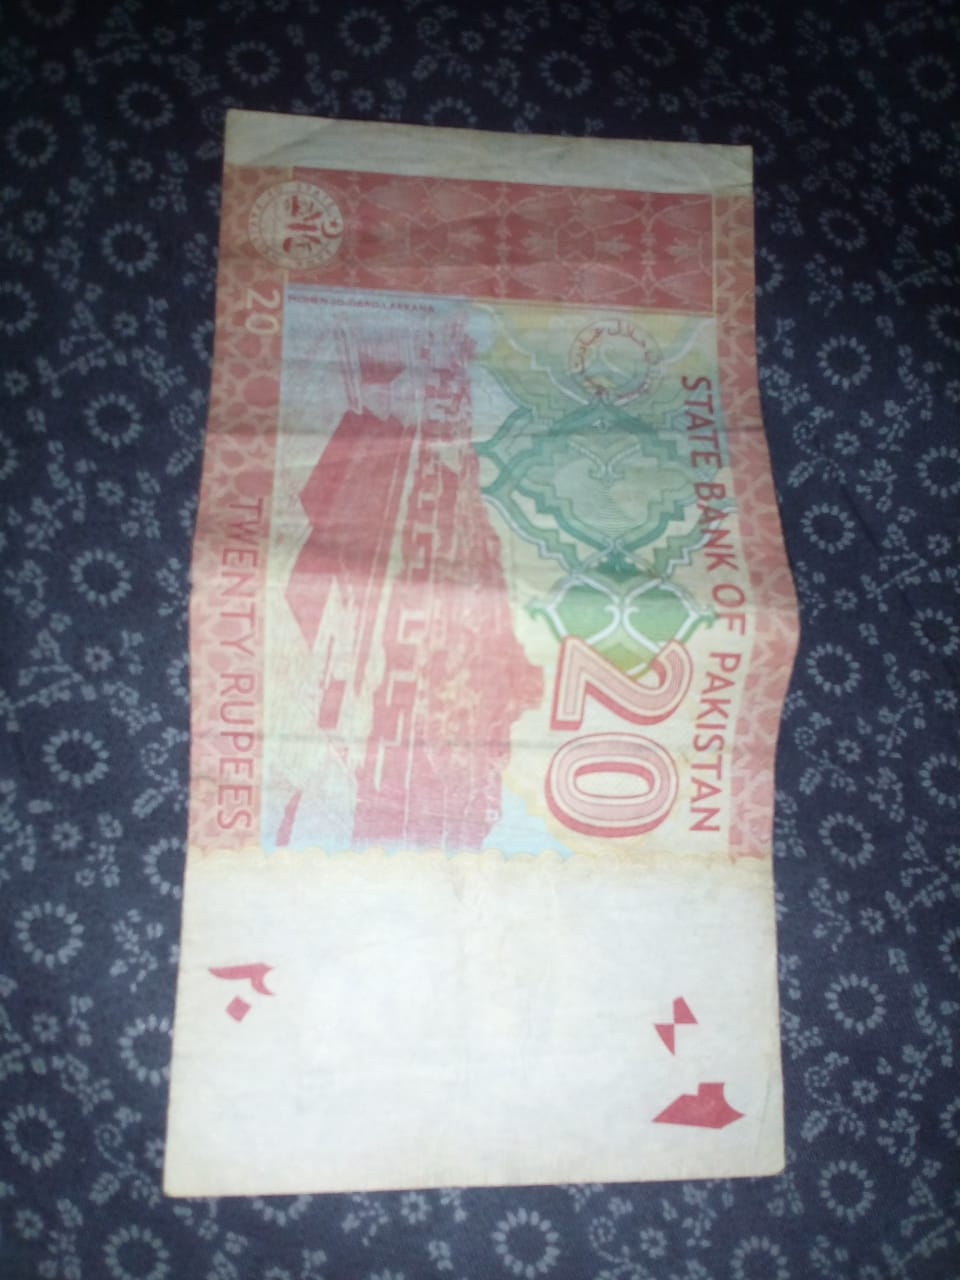20 rupee: (183, 74, 807, 1236)
